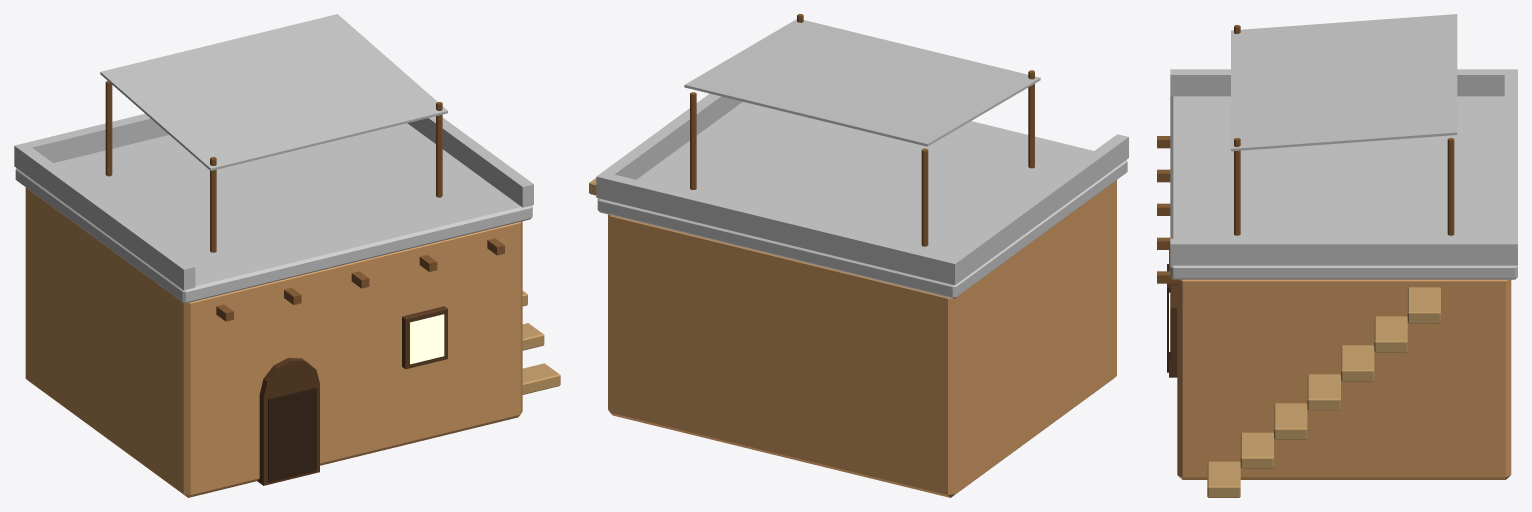
Rendered from map3_house_sand_a_v01.glb.
The picture shows the model from 3 angles, left to right: view 1: azimuth 30°, elevation 25°; view 2: azimuth 150°, elevation 25°; view 3: azimuth 270°, elevation 25°; orthographic projection. The views are drawn at different scales.
Parts seen in each view (by area): view 1: house_sand_a; view 2: house_sand_a; view 3: house_sand_a.
Boxes of the visible parts, box(x1,y1,x2,y2) form: house_sand_a: box(14, 14, 560, 497); house_sand_a: box(589, 14, 1128, 497); house_sand_a: box(1157, 14, 1517, 497).
Size of the model in its own units: 7 by 5.36 by 5.4.
